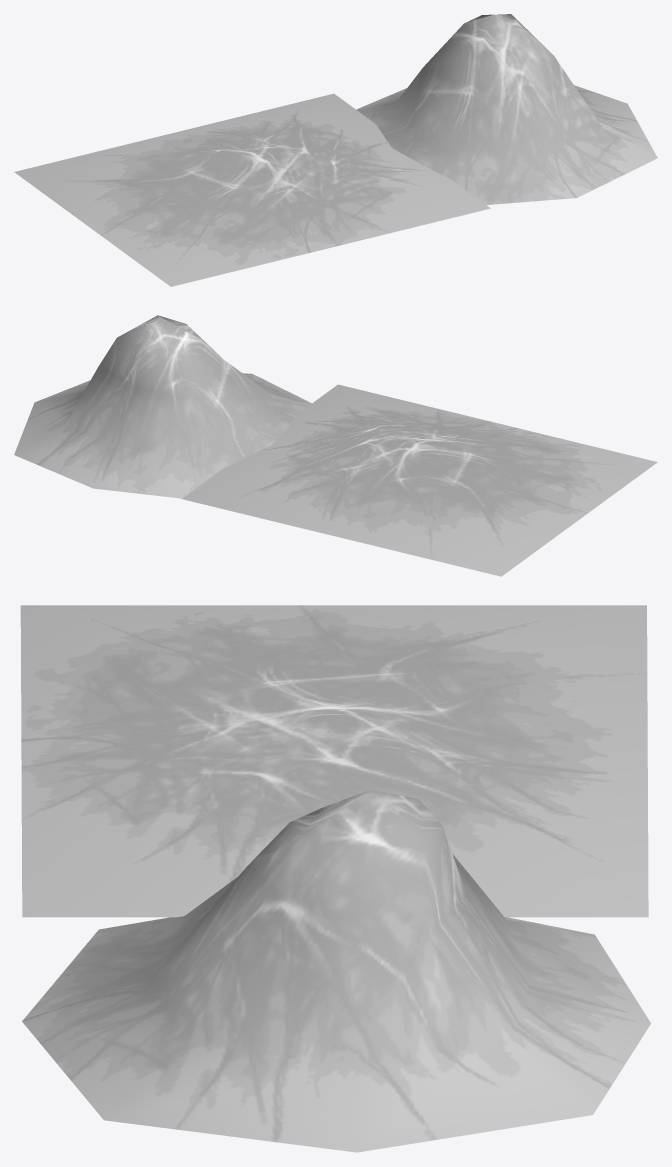
File: tlfb2_zzw.FBX
3 renders of one model, top to bottom at view 1: azimuth 30°, elevation 25°; view 2: azimuth 150°, elevation 25°; view 3: azimuth 270°, elevation 25°, orthographic. The views are drawn at different scales.
Parts seen in each view (by area): view 1: tlfb2_zhizhuwang, tlfb2_zhuwang_1; view 2: tlfb2_zhizhuwang, tlfb2_zhuwang_1; view 3: tlfb2_zhizhuwang, tlfb2_zhuwang_1.
Boxes of the visible parts, x1=… form: tlfb2_zhizhuwang: x1=14, y1=93, x2=490, y2=286; tlfb2_zhuwang_1: x1=356, y1=14, x2=657, y2=204; tlfb2_zhizhuwang: x1=182, y1=384, x2=657, y2=576; tlfb2_zhuwang_1: x1=14, y1=315, x2=311, y2=498; tlfb2_zhizhuwang: x1=20, y1=605, x2=648, y2=917; tlfb2_zhuwang_1: x1=22, y1=789, x2=650, y2=1152.
Bounding box in the file's own units: 143 × 29.82 × 72.29.
